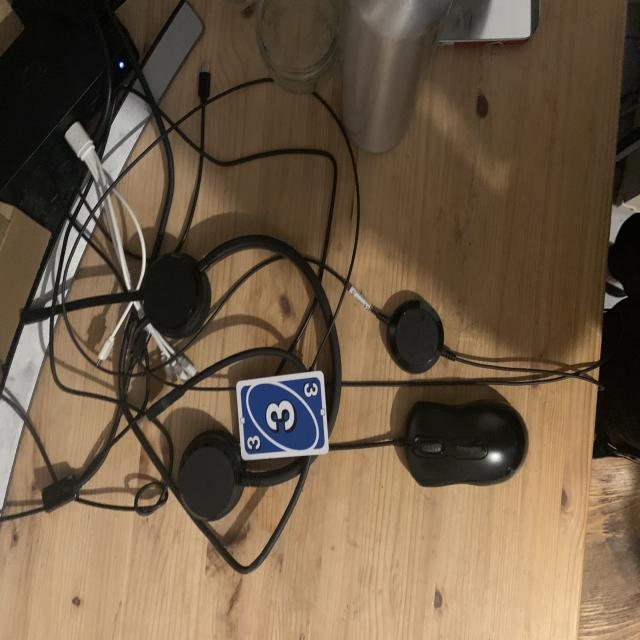lblue-3: (299, 379, 322, 404)
